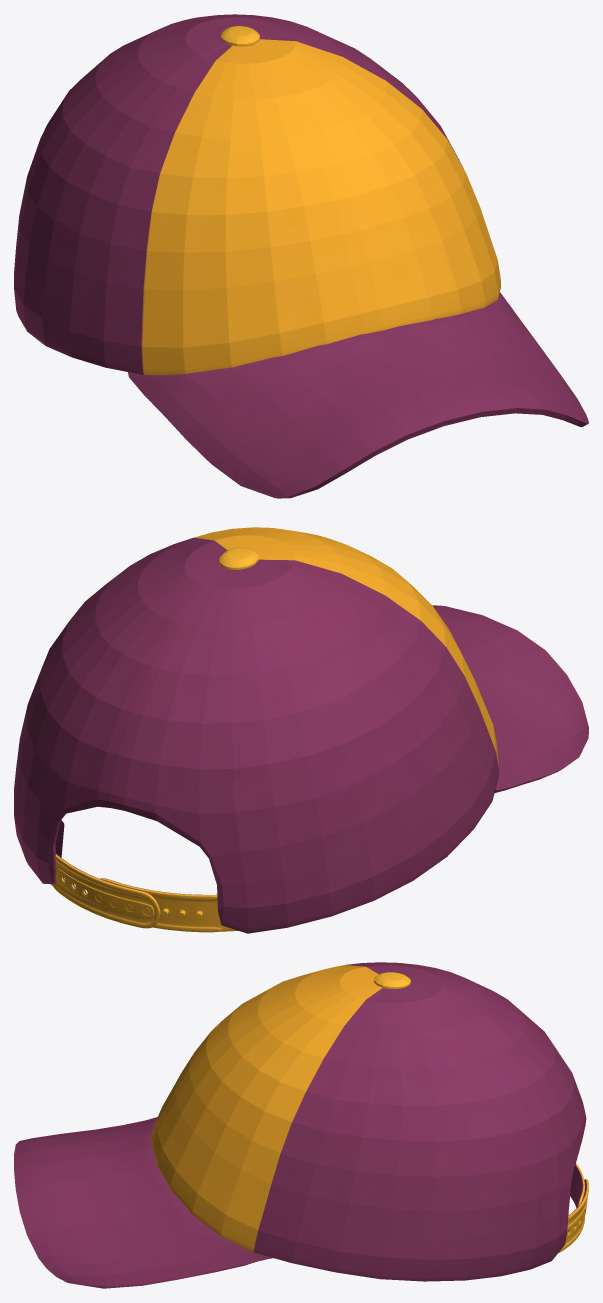
Rendered from BaseBall_Cap.fbx.
3 renders of one model, top to bottom at view 1: azimuth 30°, elevation 25°; view 2: azimuth 150°, elevation 25°; view 3: azimuth 270°, elevation 25°, orthographic. The views are drawn at different scales.
Parts seen in each view (by area): view 1: Baseball_cap; view 2: Baseball_cap; view 3: Baseball_cap.
Part boxes in pixels (x1,y1,x2,y2): Baseball_cap: (14, 14, 588, 498); Baseball_cap: (14, 527, 588, 933); Baseball_cap: (14, 962, 588, 1288).
Bounding box in the file's own units: 3.5 × 2.41 × 5.09.
1 material, 1 textured.
